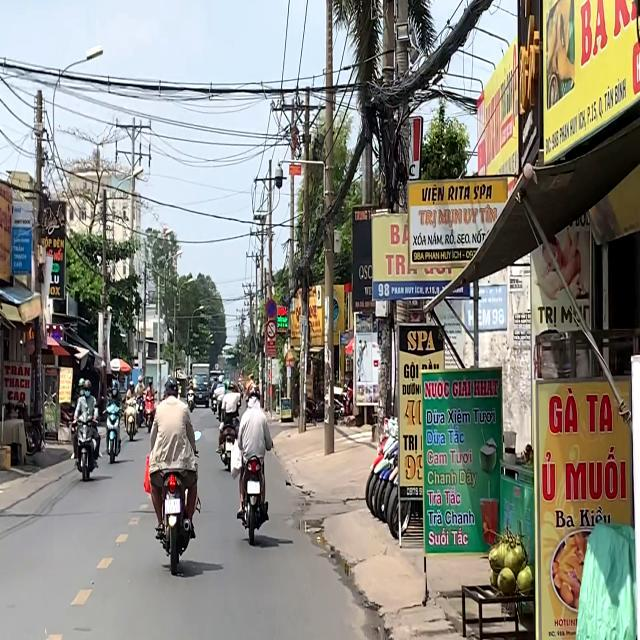Cam do xe: (266, 300, 277, 318)
